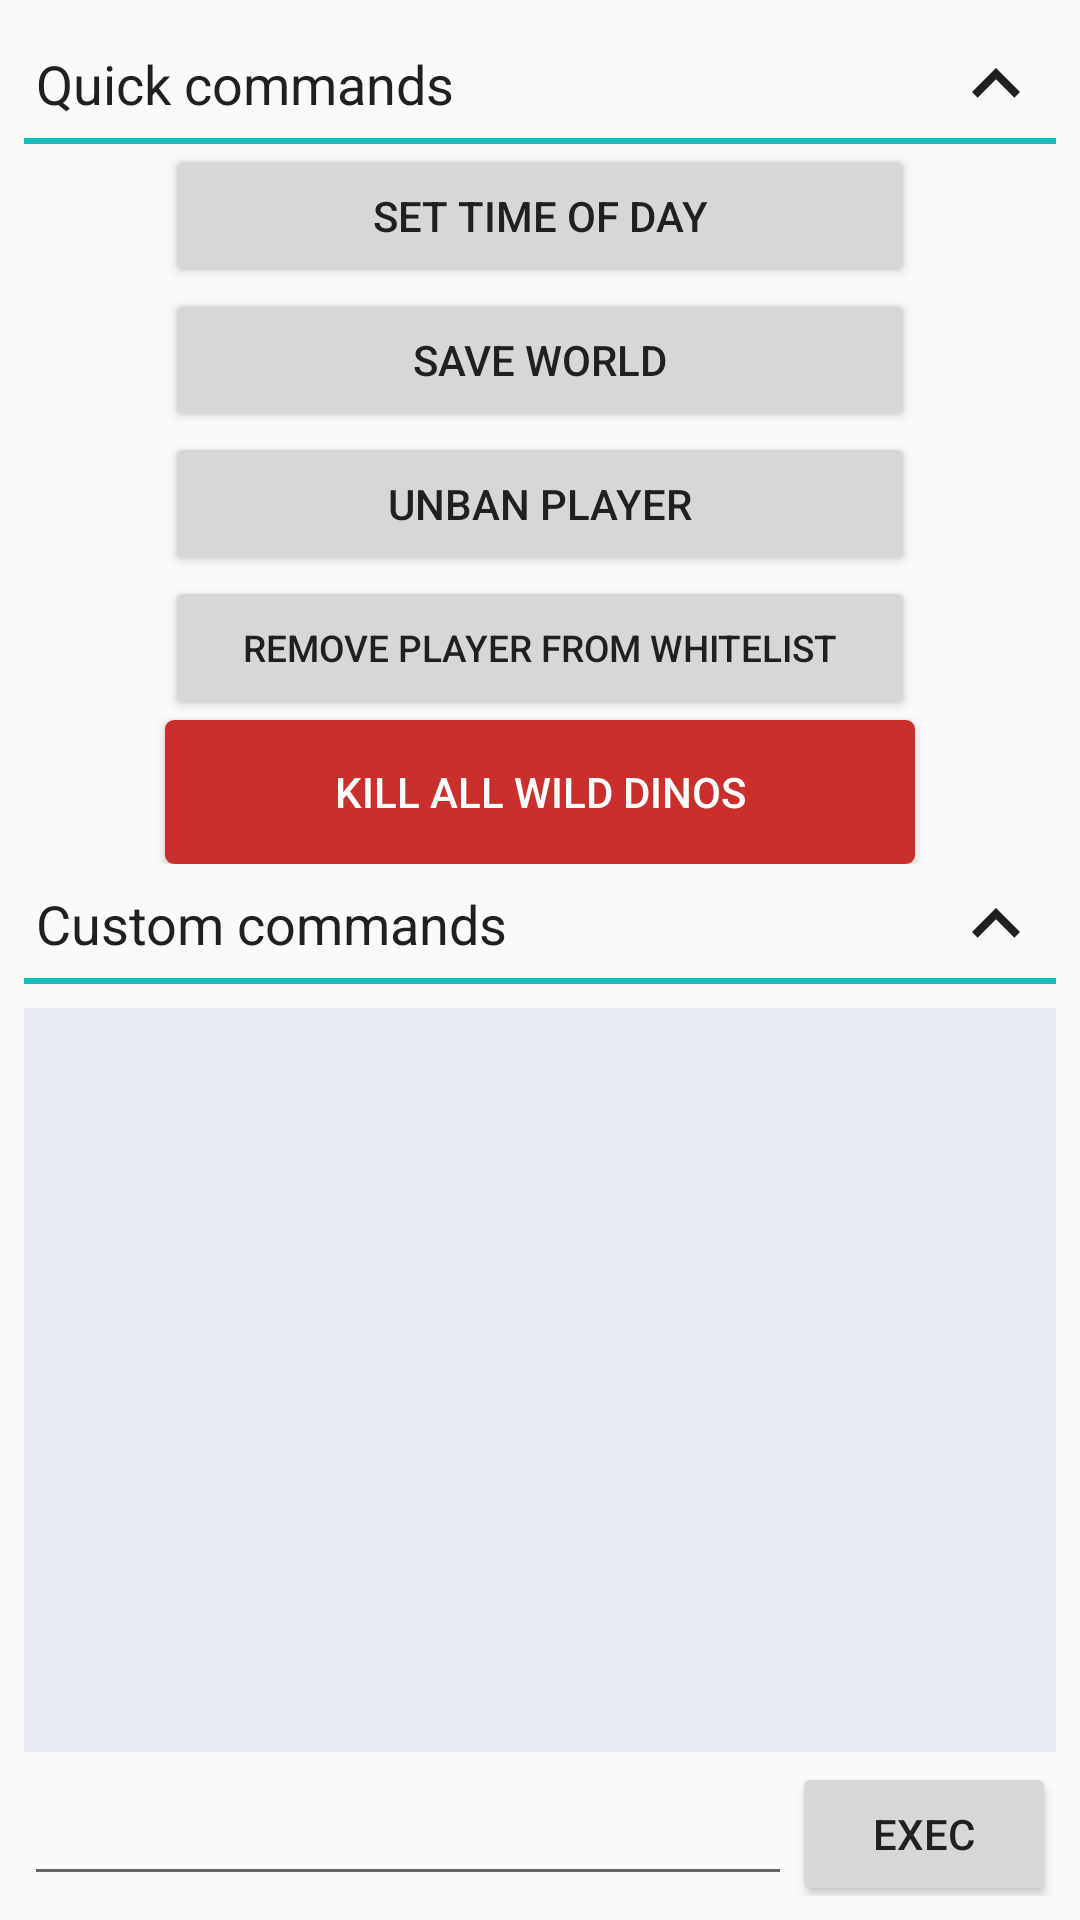

Icons on this 1080*1920 Android screen, each with its box as bbox=(x1, y1, x2, y2):
expand less: bbox=(972, 68, 1020, 98), bbox=(972, 908, 1020, 938)
